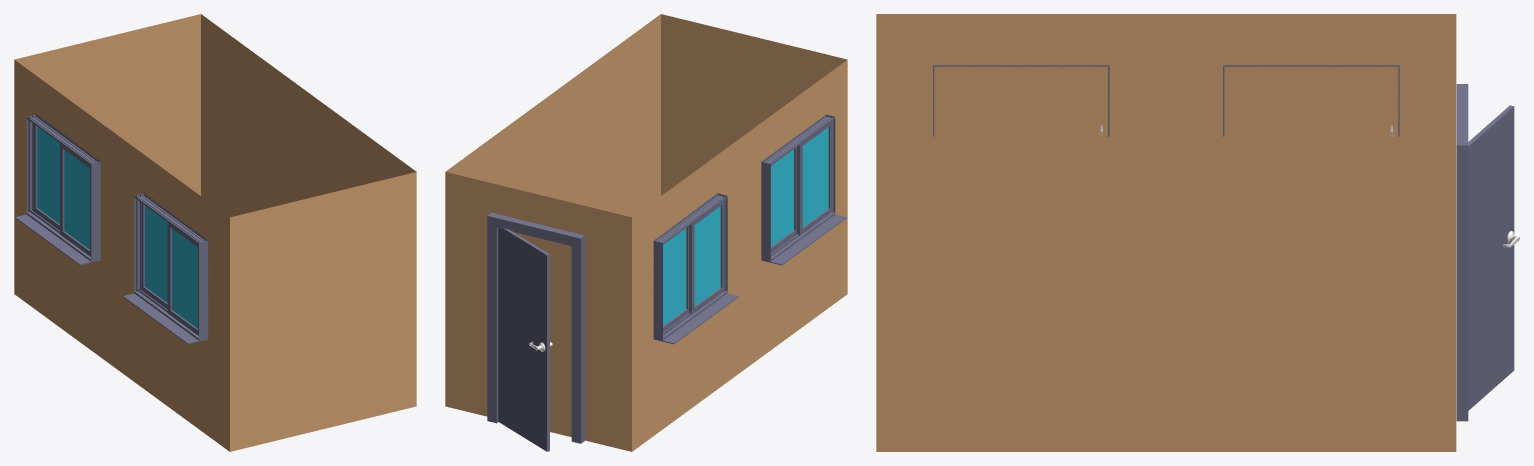
File: room.glb
The picture shows the model from 3 angles, left to right: view 1: azimuth 30°, elevation 25°; view 2: azimuth 150°, elevation 25°; view 3: azimuth 270°, elevation 25°; orthographic projection. The views are drawn at different scales.
Parts seen in each view (by area): view 1: Room, WindowFrame, WindowFrame.001, Window.L.001, Window.L, Window.R, Window.R.001, Windows_Sill, Windows_Sill.001; view 2: Room, Door, DoorFrame, Window.L.001, Window.L, WindowFrame, WindowFrame.001, Window.R.001, Window.R, Windows_Sill.001, Windows_Sill; view 3: Room, Door, DoorFrame, WindowFrame, WindowFrame.001.
Boxes of the visible parts, x1=… form: Room: x1=14, y1=14, x2=416, y2=451; WindowFrame: x1=26, y1=113, x2=100, y2=261; WindowFrame.001: x1=134, y1=192, x2=208, y2=340; Window.L.001: x1=167, y1=222, x2=198, y2=335; Window.L: x1=60, y1=143, x2=90, y2=256; Window.R: x1=33, y1=124, x2=59, y2=230; Window.R.001: x1=141, y1=203, x2=167, y2=309; Windows_Sill: x1=15, y1=214, x2=100, y2=265; Windows_Sill.001: x1=123, y1=293, x2=208, y2=344; Room: x1=445, y1=14, x2=847, y2=451; Door: x1=498, y1=228, x2=549, y2=451; DoorFrame: x1=487, y1=213, x2=585, y2=443; Window.L.001: x1=796, y1=121, x2=832, y2=235; Window.L: x1=689, y1=200, x2=724, y2=314; WindowFrame: x1=653, y1=192, x2=727, y2=340; WindowFrame.001: x1=761, y1=114, x2=835, y2=261; Window.R.001: x1=771, y1=147, x2=796, y2=253; Window.R: x1=663, y1=226, x2=688, y2=332; Windows_Sill.001: x1=761, y1=214, x2=846, y2=265; Windows_Sill: x1=653, y1=293, x2=738, y2=344; Room: x1=876, y1=14, x2=1456, y2=451; Door: x1=1468, y1=105, x2=1514, y2=410; DoorFrame: x1=1456, y1=84, x2=1468, y2=421; WindowFrame: x1=1223, y1=65, x2=1399, y2=136; WindowFrame.001: x1=933, y1=65, x2=1109, y2=136.
Size of the model in its own units: 2.22 by 2.4 by 4.44.
